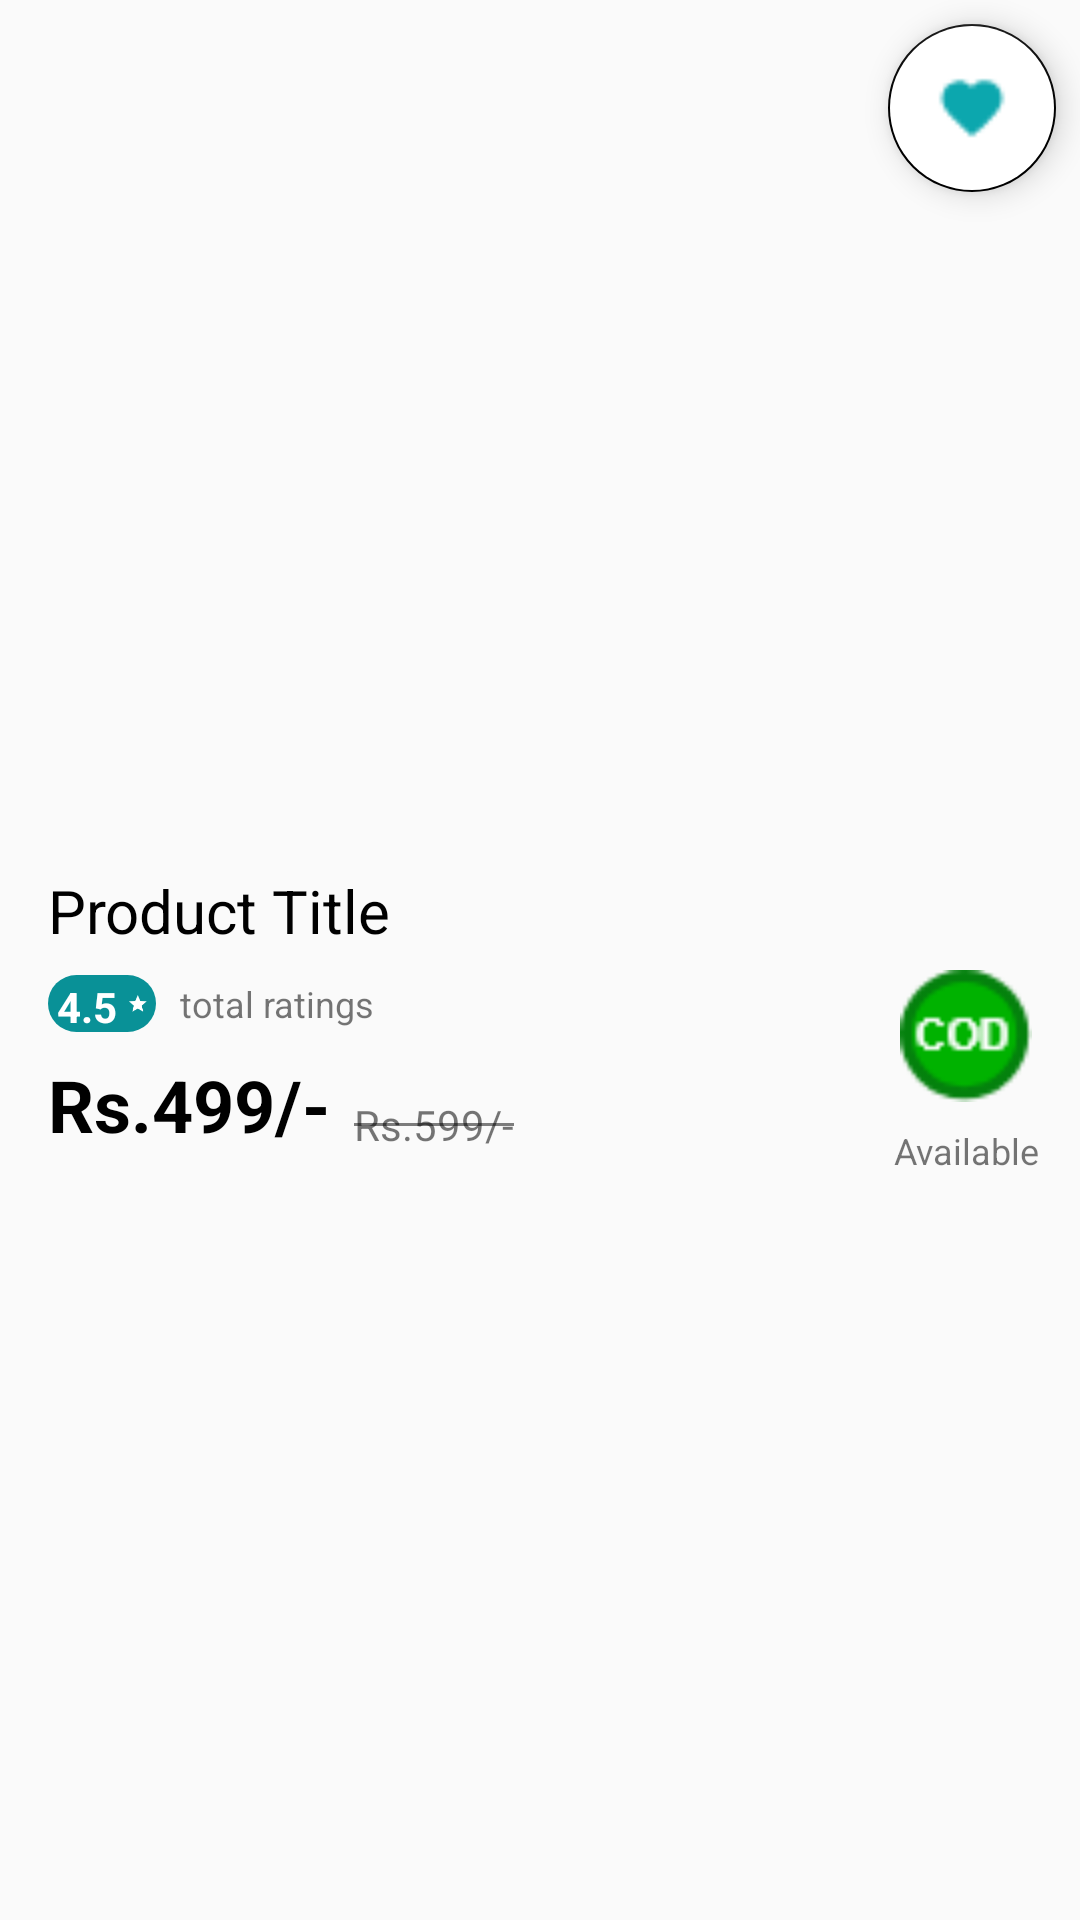

Where icons sit on this 1080 x 1920 app screen, as (x1, y1, x2, y2):
wishlist: (888, 24, 1056, 192)
